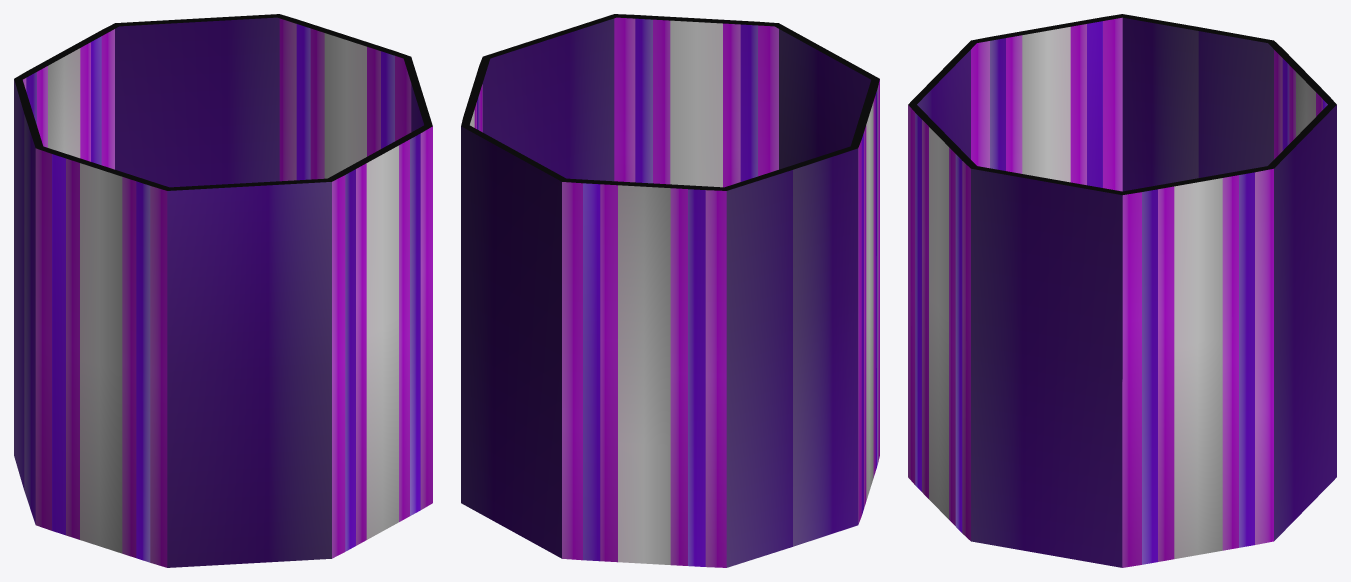
File: OCTAGON .fbx
The picture shows the model from 3 angles, left to right: view 1: azimuth 30°, elevation 25°; view 2: azimuth 150°, elevation 25°; view 3: azimuth 270°, elevation 25°; orthographic projection.
Visible parts, largest first — view 1: Cube; view 2: Cube; view 3: Cube.
Boxes of the visible parts, x1=… form: Cube: x1=14, y1=14, x2=432, y2=567; Cube: x1=461, y1=14, x2=879, y2=567; Cube: x1=908, y1=14, x2=1336, y2=567.
Size of the model in its own units: 25582 by 24539 by 25582.
Materials: 1 (1 with a texture image).
